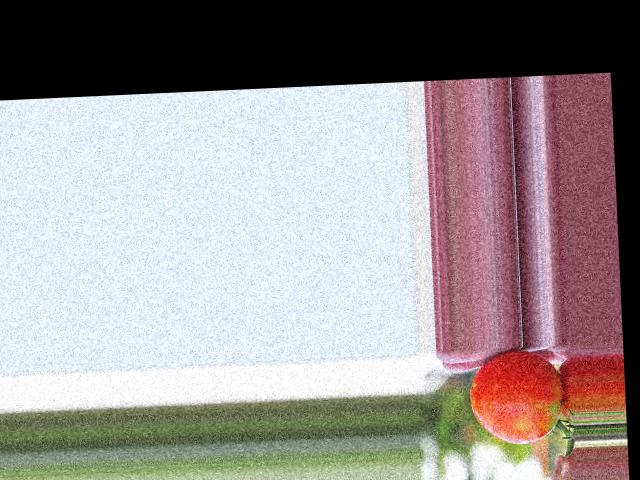tomato: (468, 349, 563, 446)
